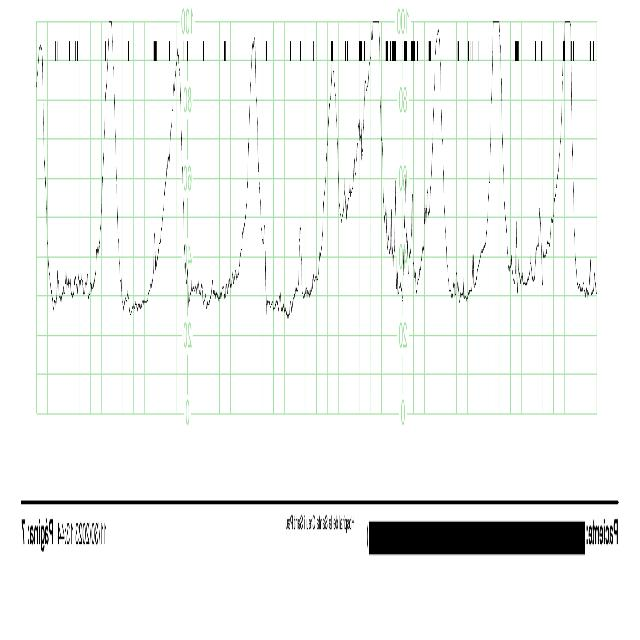contraction: (478, 21, 512, 280), (97, 25, 124, 307), (361, 21, 391, 274), (240, 21, 266, 305), (164, 27, 188, 299), (554, 15, 578, 286), (426, 27, 449, 295), (38, 25, 56, 313), (324, 58, 344, 214)
